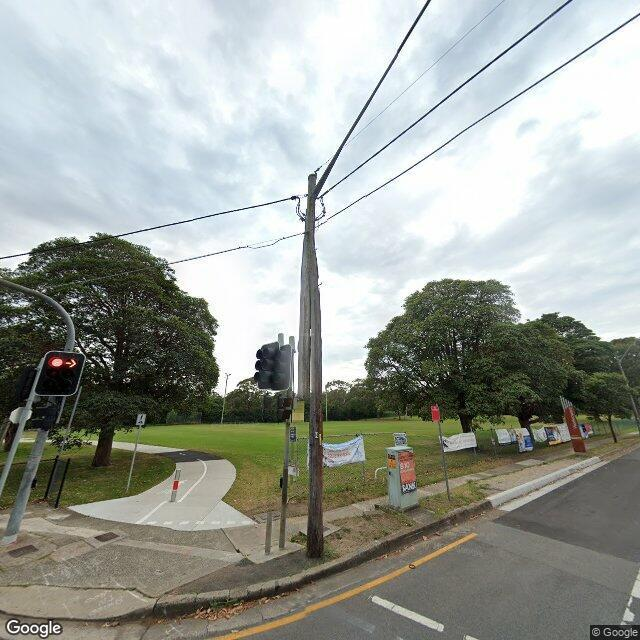steel-pole: (4, 315, 77, 536), (263, 333, 296, 556)
streetlight: (314, 0, 432, 198)
timber-pole: (299, 173, 324, 558)
traffic-light: (33, 351, 86, 396), (252, 342, 294, 392)
